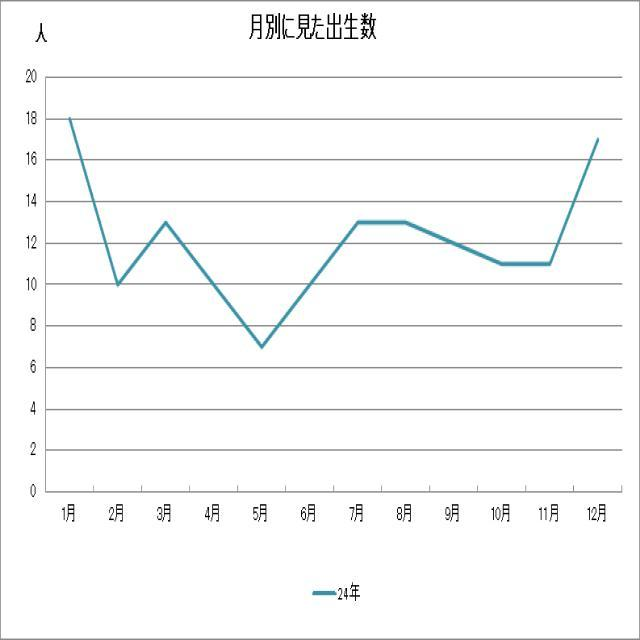axis: (40, 481, 630, 495), (38, 65, 53, 497)
line: (65, 115, 601, 353)
